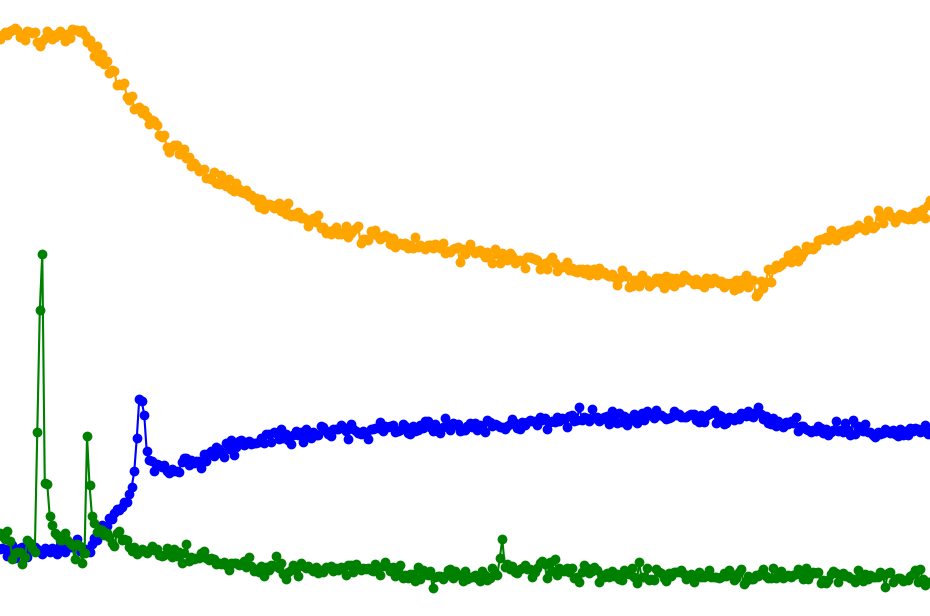Condensation (CO2): (59, 0, 298, 616)
High O2: (775, 0, 930, 616)
Low CO2: (537, 0, 930, 616), (298, 0, 537, 616), (775, 0, 930, 616)
Normal: (59, 0, 537, 616), (0, 0, 298, 616), (298, 0, 537, 616), (537, 0, 775, 616)
O2 Problem: (537, 0, 930, 616)
